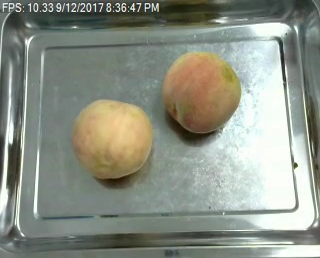Peach: (161, 50, 241, 134), (72, 98, 151, 178)
